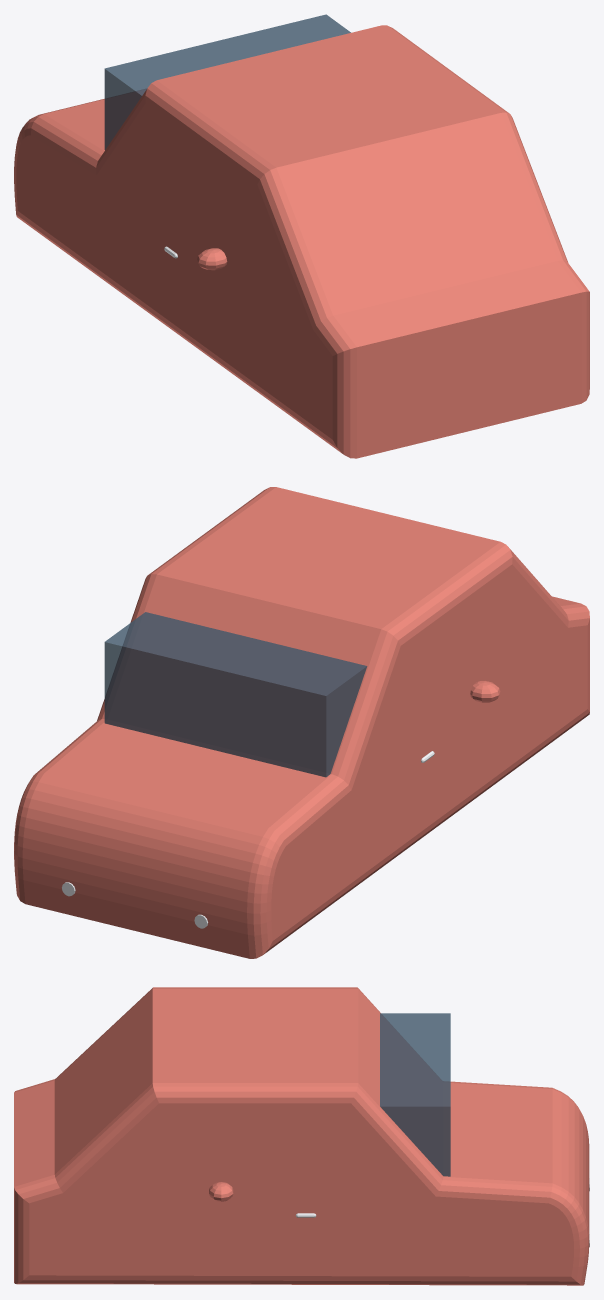
The model's file is veh_brisa.glb.
3 views of the same model, one above another, from view 1: azimuth 30°, elevation 25°; view 2: azimuth 150°, elevation 25°; view 3: azimuth 270°, elevation 25° (orthographic). The views are drawn at different scales.
Visible parts, largest first — view 1: veh_brisa; view 2: veh_brisa; view 3: veh_brisa.
Part boxes in pixels (x1,y1,x2,y2): veh_brisa: (14,14,589,458); veh_brisa: (14,487,589,958); veh_brisa: (14,987,589,1285).
Bounding box in the file's own units: 2.06 × 1.53 × 3.98.
